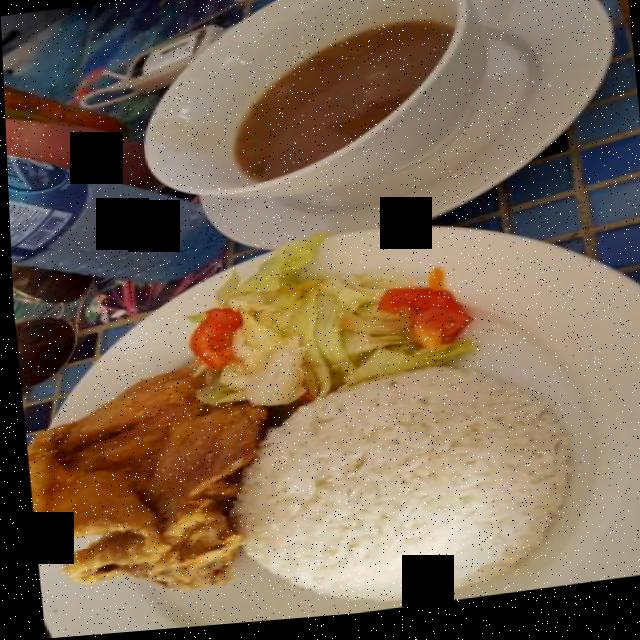Frango: (16, 357, 274, 612)
